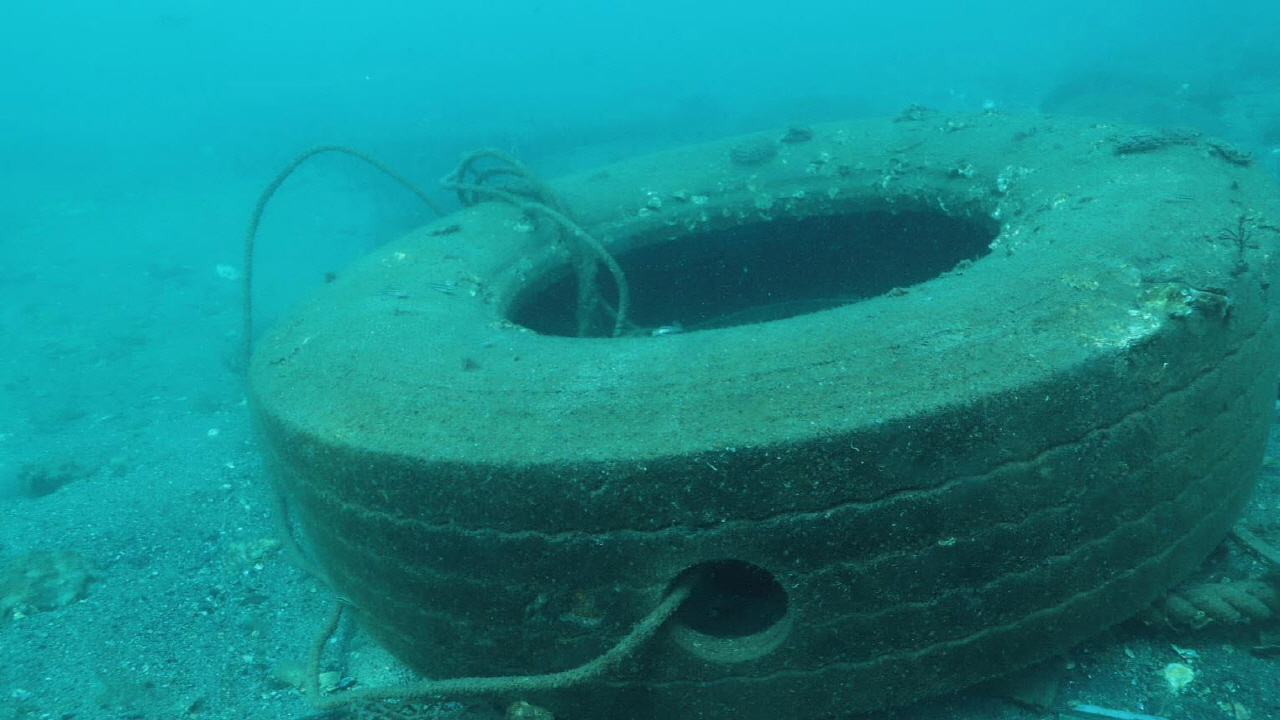bundle of ropes: (235, 140, 700, 720)
tire: (248, 108, 1280, 720)
